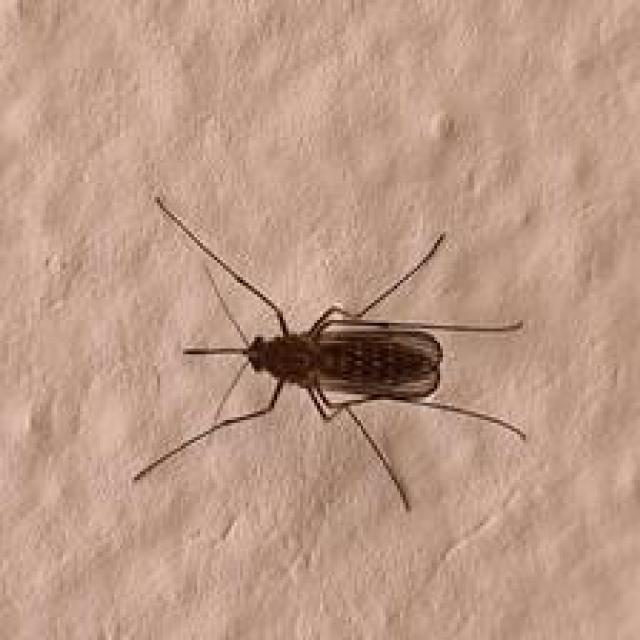Culex: (130, 194, 527, 512)
